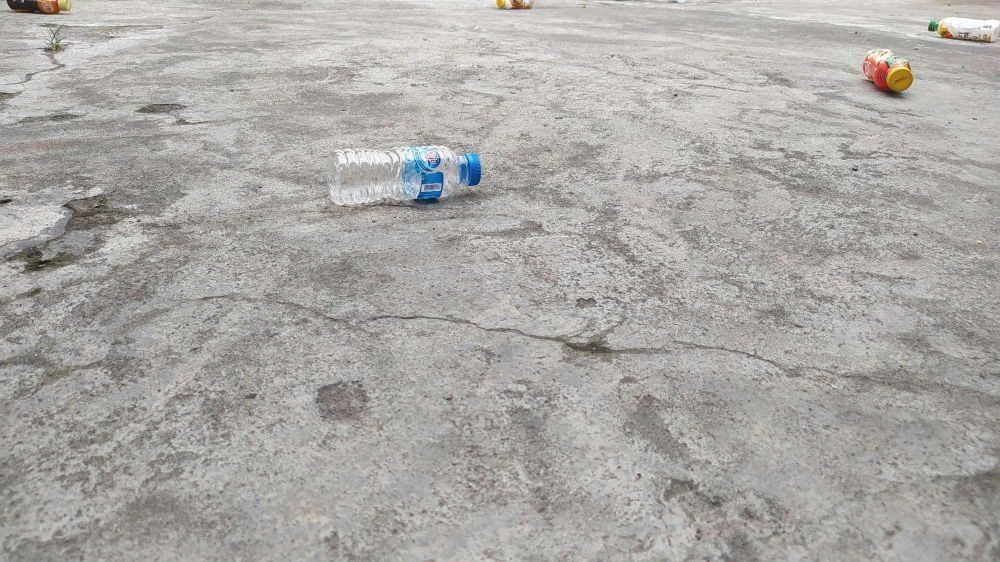botol: (324, 126, 532, 209), (919, 1, 997, 52), (858, 36, 921, 98), (493, 1, 541, 27)
